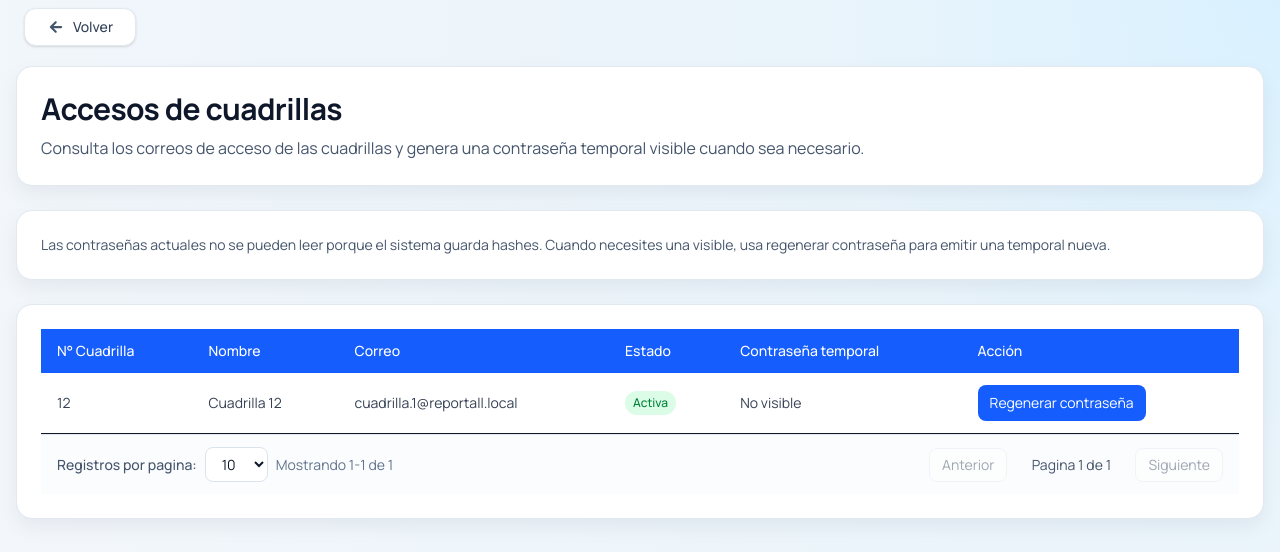
Test: dashboard/enacal/craw/accounts/page.jsx › muestra cuentas y permite regenerar contraseña temporal
Check: the text "cuadrilla.1@reportall.local" is shown, box [338,373,609,434]
Click the button "Regenerar contraseña" at [1062, 403], box [978,385,1146,421]
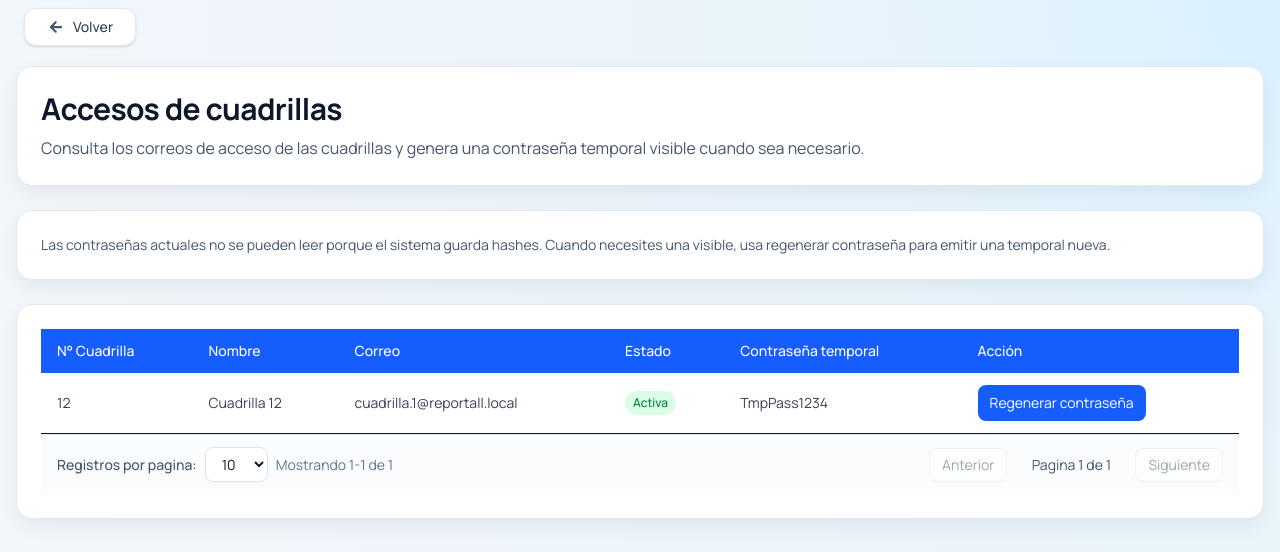
Check: the text "TmpPass1234" is shown, box [724,373,962,434]
